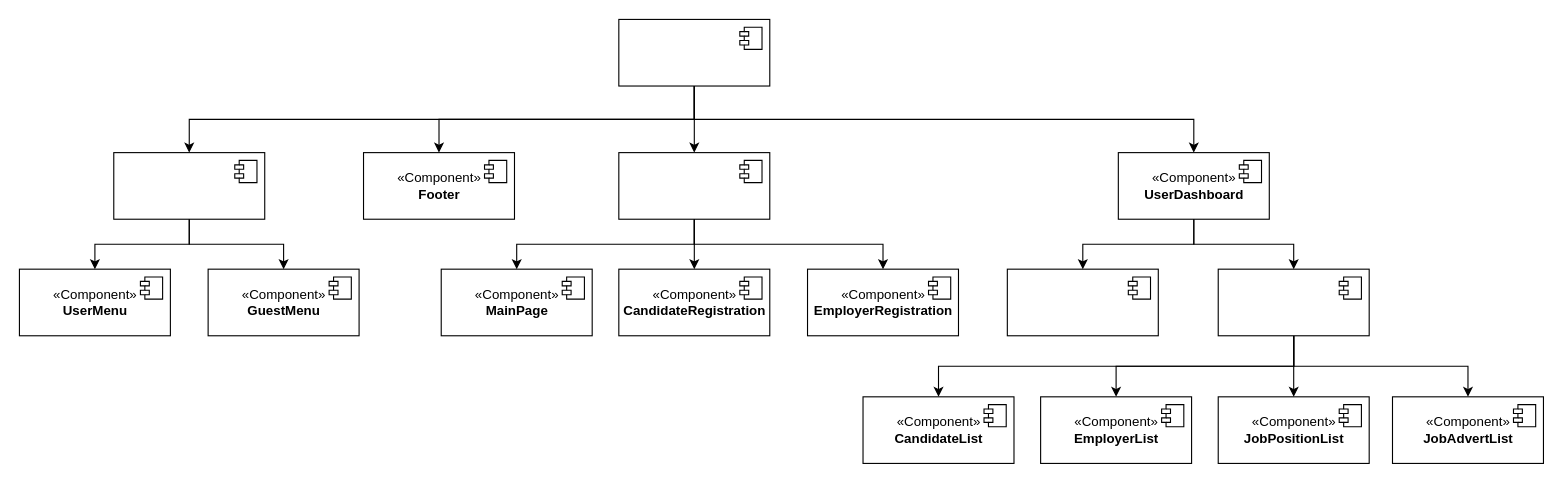
Some shapes in this 1563 by 483 pixel diagram are drawn without their labels. Each missing label, with the box of its shape:
«Component» App: (618, 18, 770, 86)
«Component» Content: (1217, 268, 1369, 336)
«Component» GuestDashboard: (618, 152, 770, 219)
«Component» Navigation: (113, 152, 265, 219)
«Component» SideBar: (1006, 268, 1158, 336)
